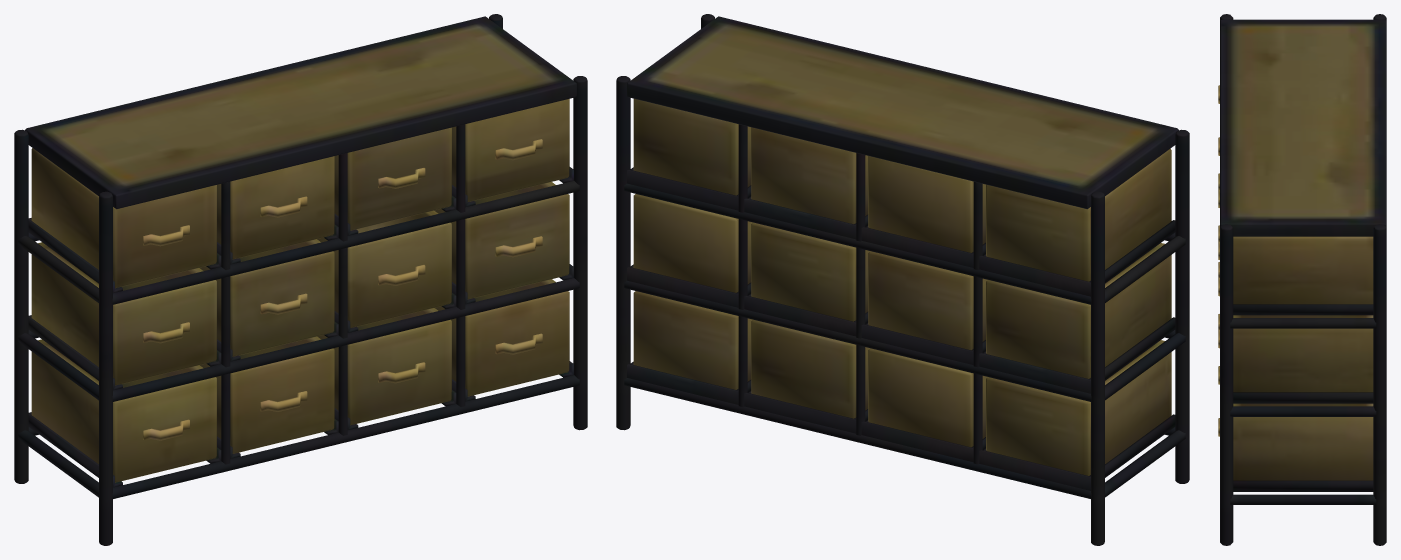
3 renders of one model, left to right at view 1: azimuth 30°, elevation 25°; view 2: azimuth 150°, elevation 25°; view 3: azimuth 270°, elevation 25°, orthographic. The views are drawn at different scales.
Bounding box in the file's own units: 19.1 × 13.09 × 6.3.
1 material, 1 textured.
